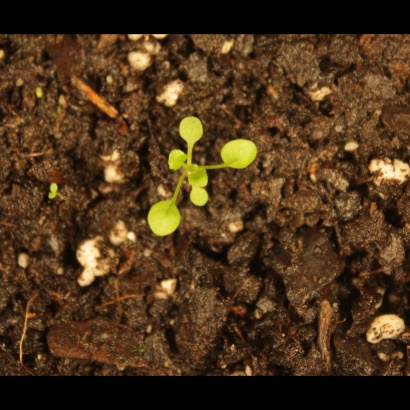leaf: (217, 131, 265, 177), (142, 192, 185, 241), (174, 110, 207, 147), (186, 187, 220, 216), (184, 160, 213, 192), (160, 142, 186, 175), (43, 182, 66, 205)
